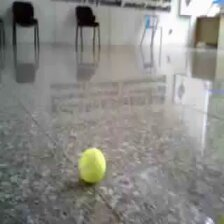tennis: (77, 148, 105, 181)
